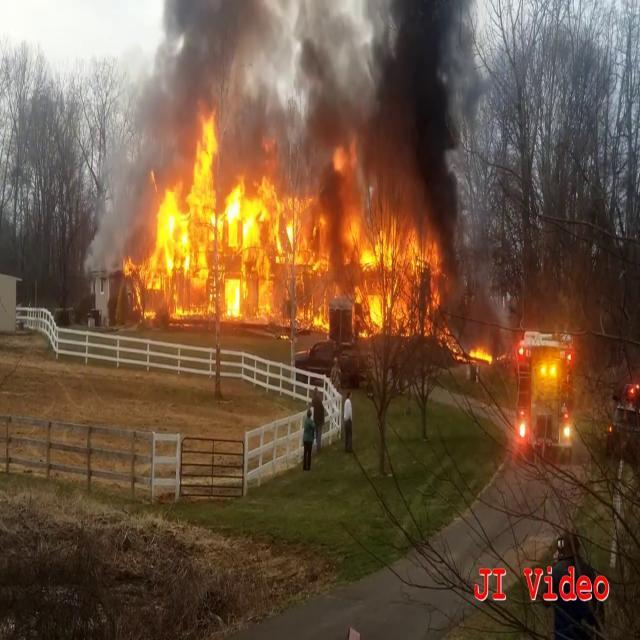Fire: (122, 122, 442, 336), (456, 337, 496, 368)
Smoke: (104, 0, 491, 204)
